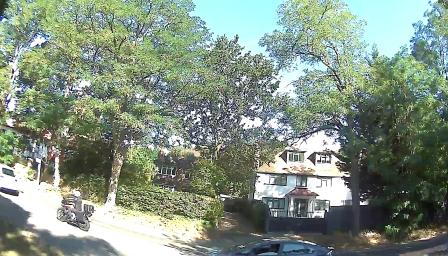Cars: (215, 229, 326, 256)
